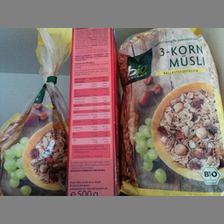cereal: (118, 29, 224, 198), (67, 28, 116, 195), (1, 81, 67, 194)
